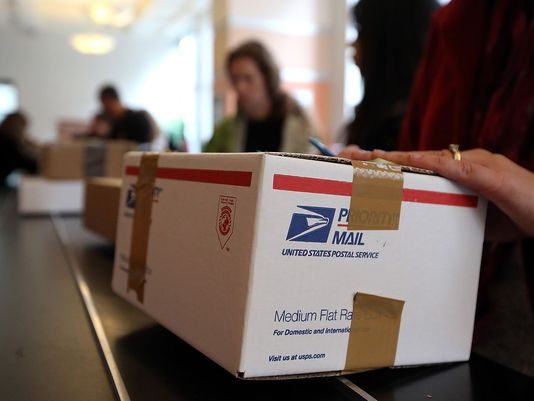box: (118, 150, 478, 372)
